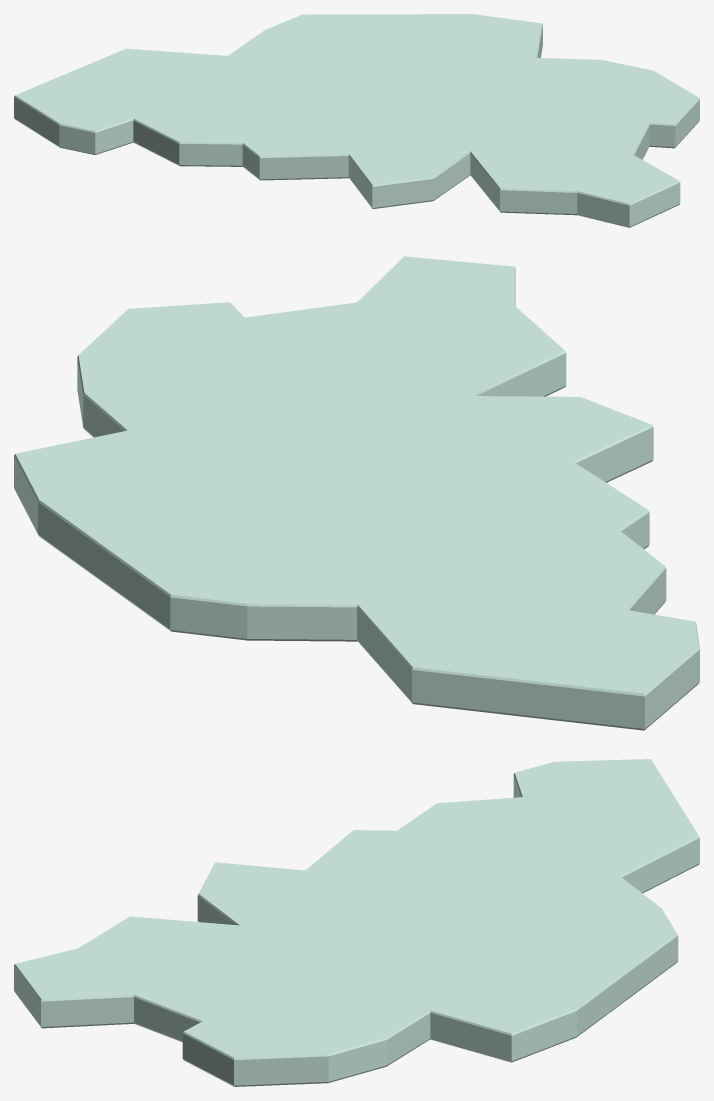
File: BEL.glb
3 renders of one model, top to bottom at view 1: azimuth 30°, elevation 25°; view 2: azimuth 150°, elevation 25°; view 3: azimuth 270°, elevation 25°, orthographic. The views are drawn at different scales.
Bounding box in the file's own units: 1.51 × 0.068 × 1.46.
